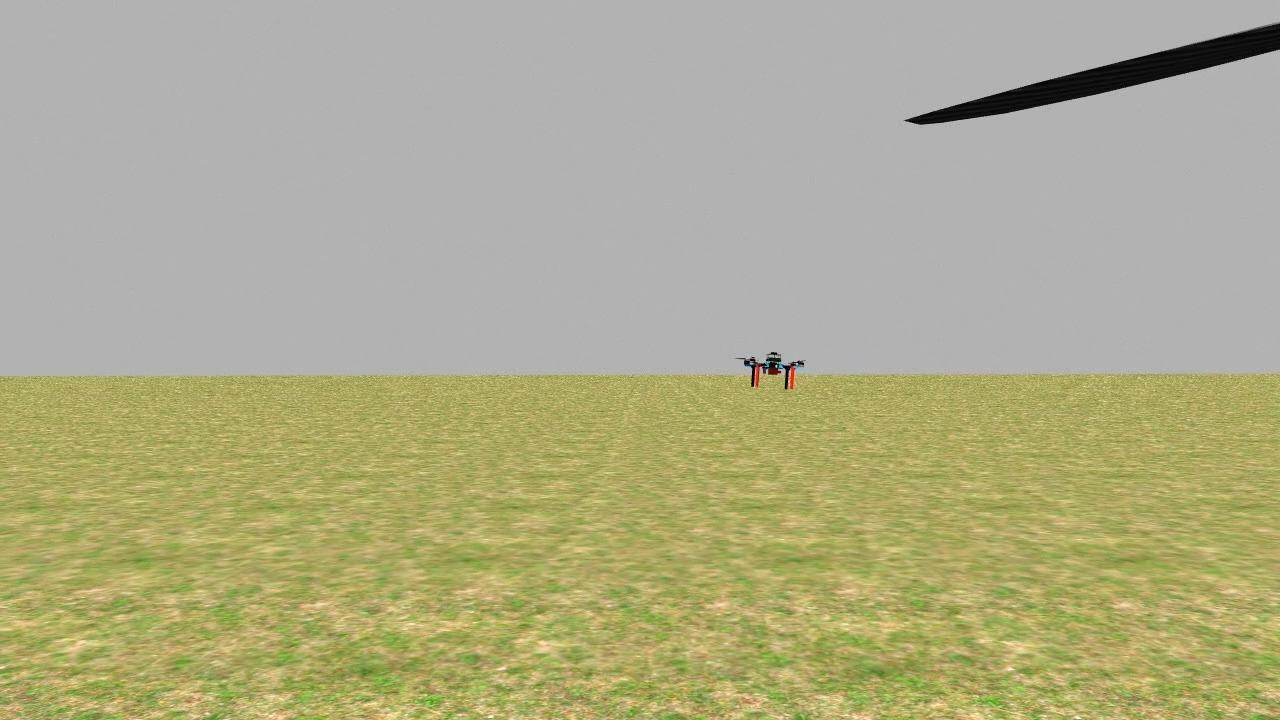UAV: (734, 345, 816, 399)
